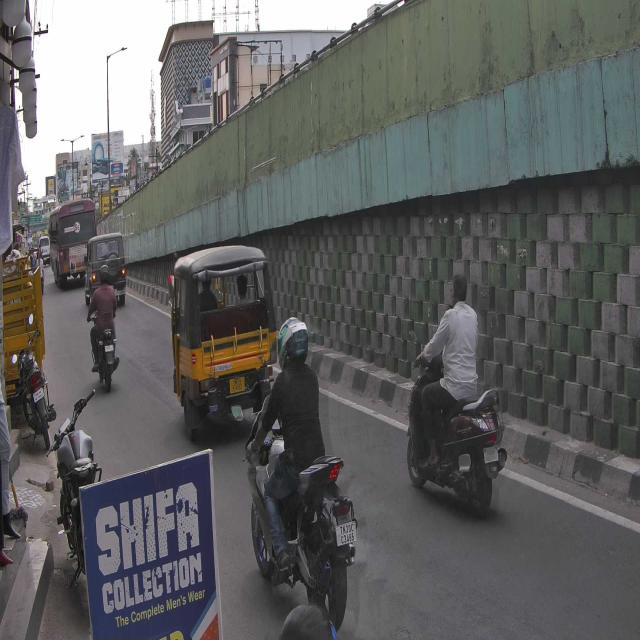single_rider: (238, 318, 357, 629), (402, 268, 515, 520)
